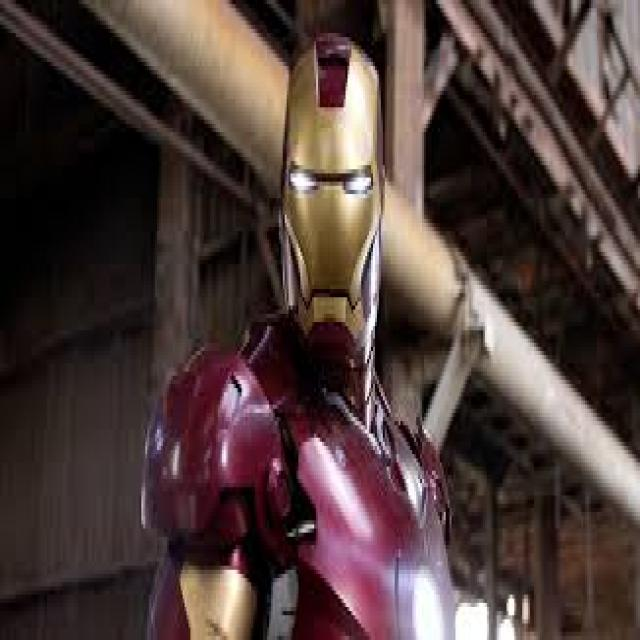ironman: (4, 4, 632, 640)
